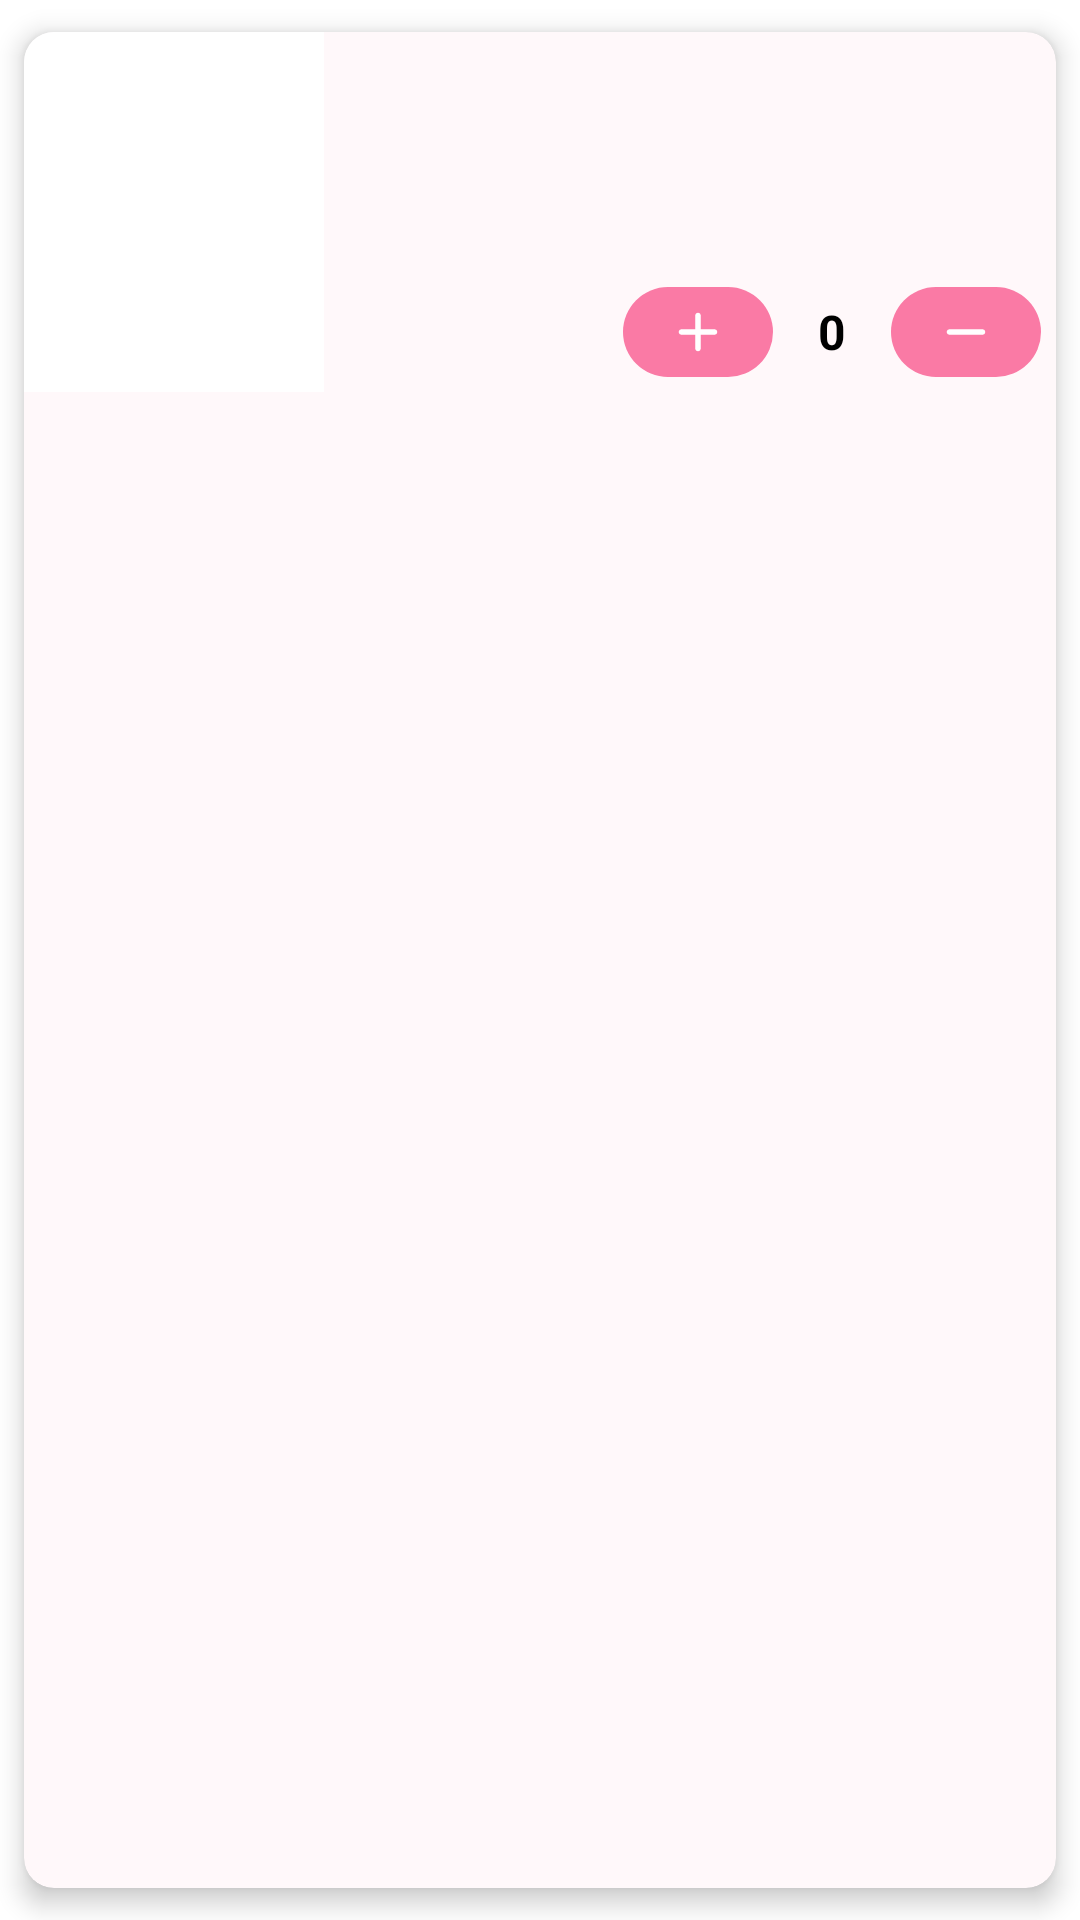

Locate icon controls on the screen. Image size 1080 × 1920, boxes as BBox(x1, y1, x2, y2).
add: BBox(623, 287, 773, 377)
remove: BBox(891, 287, 1041, 377)
